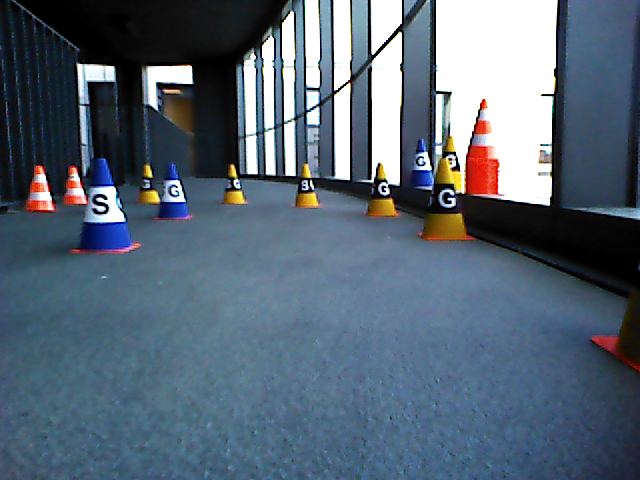bluecone: (79, 157, 132, 248), (159, 163, 189, 216), (412, 139, 434, 184)
orangeconesmall: (467, 100, 499, 160), (26, 165, 56, 211), (66, 165, 87, 204)
yellowcone: (423, 158, 466, 236), (368, 164, 396, 213), (295, 163, 319, 205), (225, 164, 246, 201), (141, 164, 161, 201)
